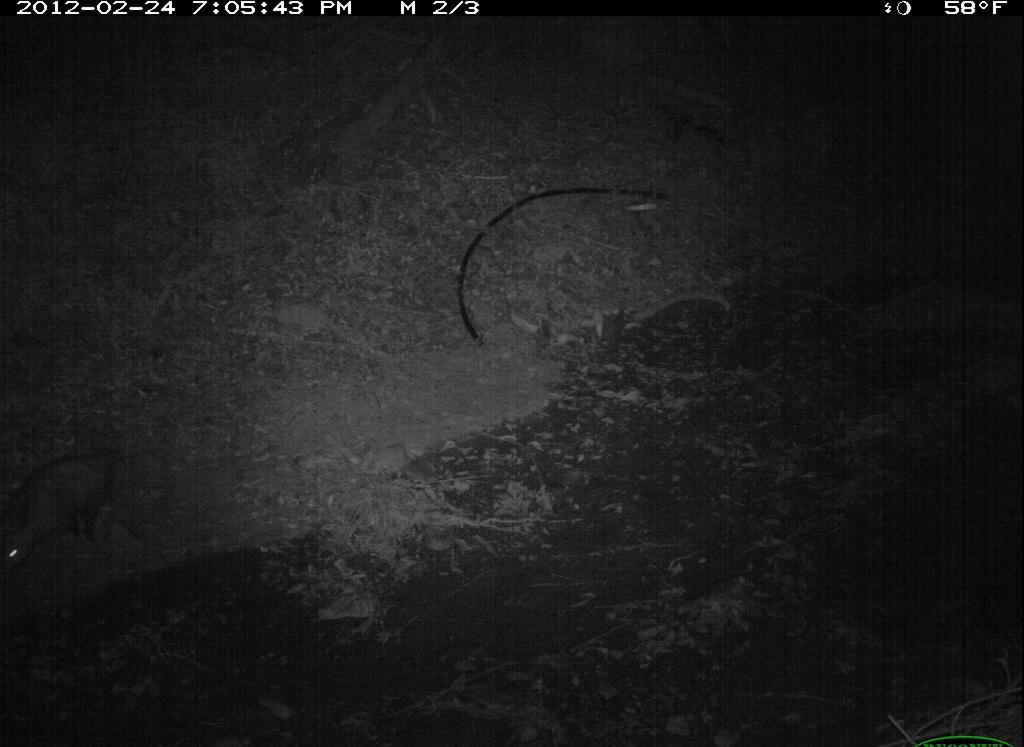opossum: (1, 419, 155, 581)
